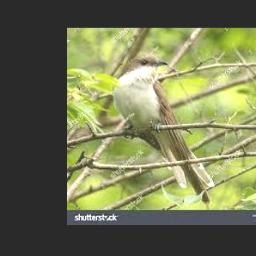Cuckoo: (115, 54, 214, 203)
